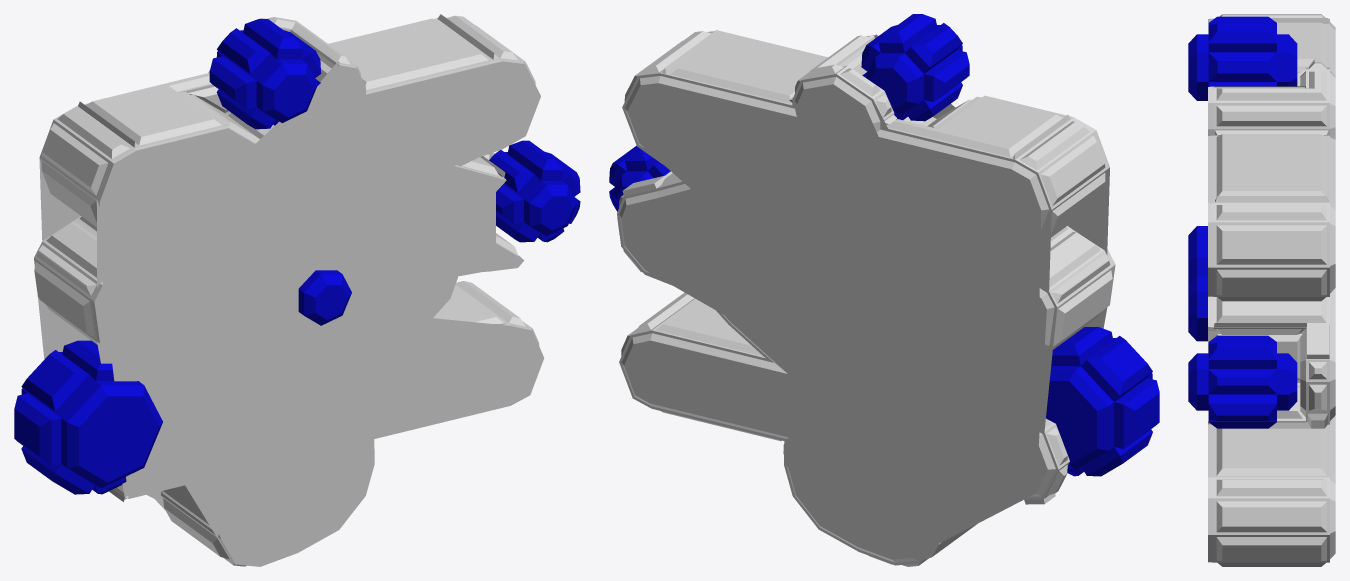
The model's file is Ch_China_李_01.fbx.
The picture shows the model from 3 angles, left to right: view 1: azimuth 30°, elevation 25°; view 2: azimuth 150°, elevation 25°; view 3: azimuth 270°, elevation 25°; orthographic projection. The views are drawn at different scales.
Parts seen in each view (by area): view 1: sphere1; view 2: sphere1; view 3: sphere1.
Part boxes in pixels (x1,y1,x2,y2): sphere1: [14, 14, 580, 566]; sphere1: [609, 14, 1159, 566]; sphere1: [1188, 14, 1335, 566].
Bounding box in the file's own units: 1.09 × 1.01 × 0.2541.
